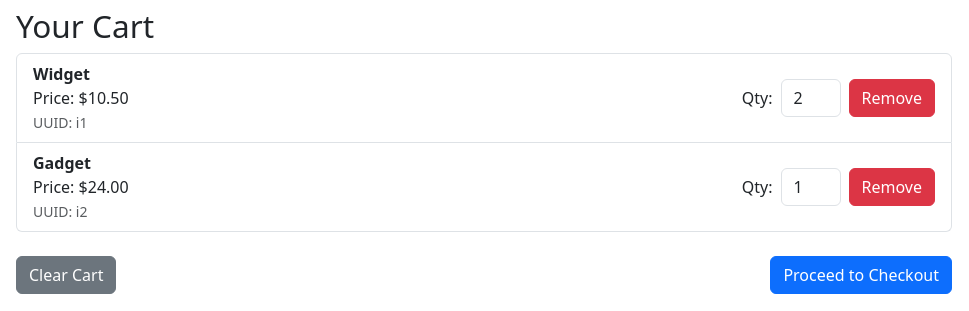
it: <CartPage /> › removes an item: DELETE then refetch; list updates and global count updated
The width and height of the screenshot is (969, 311).
Click the button "Remove" in the row of "Widget": (892, 98) x1=848 y1=79 x2=935 y2=117
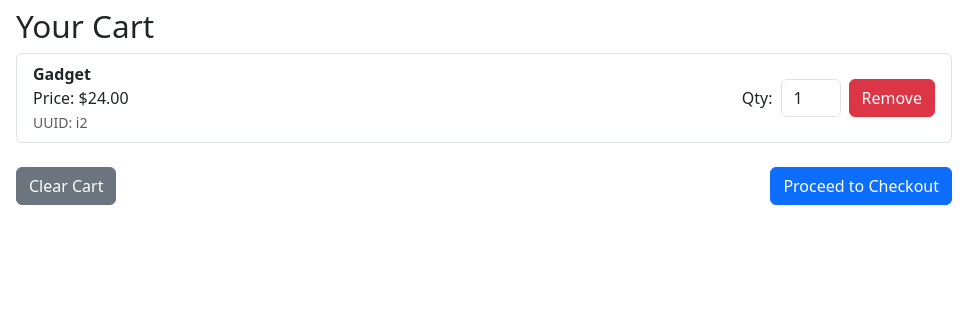
Check: the number of list items is 1, box x1=16 y1=53 x2=952 y2=143
